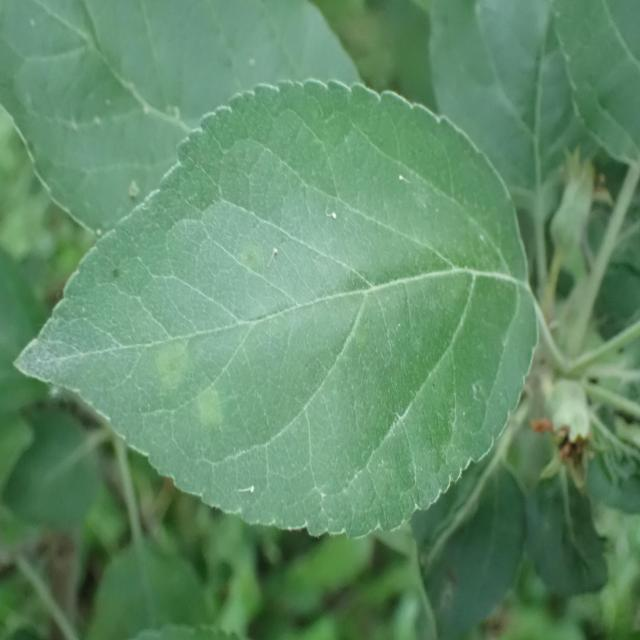scab: (89, 151, 534, 517)
